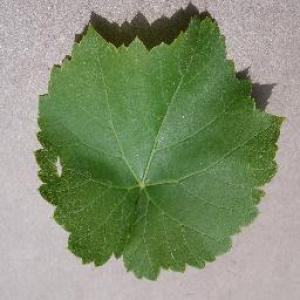Folha: (33, 1, 287, 281)
